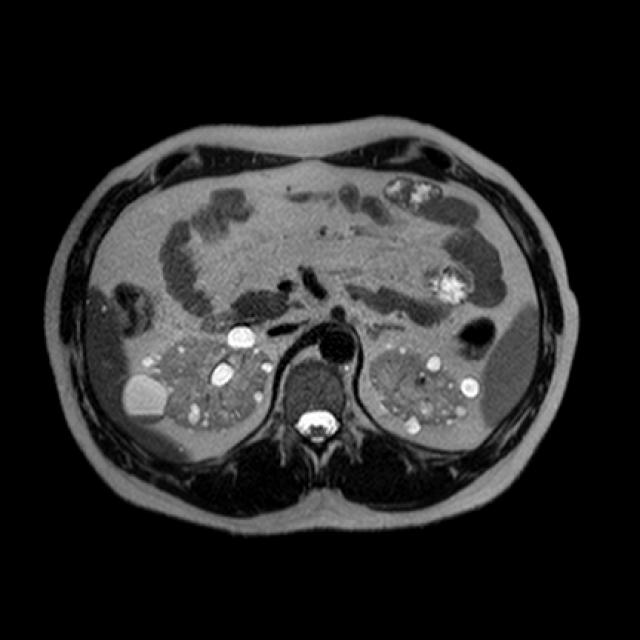sag: (122, 324, 274, 434)
sol: (369, 343, 483, 437)
